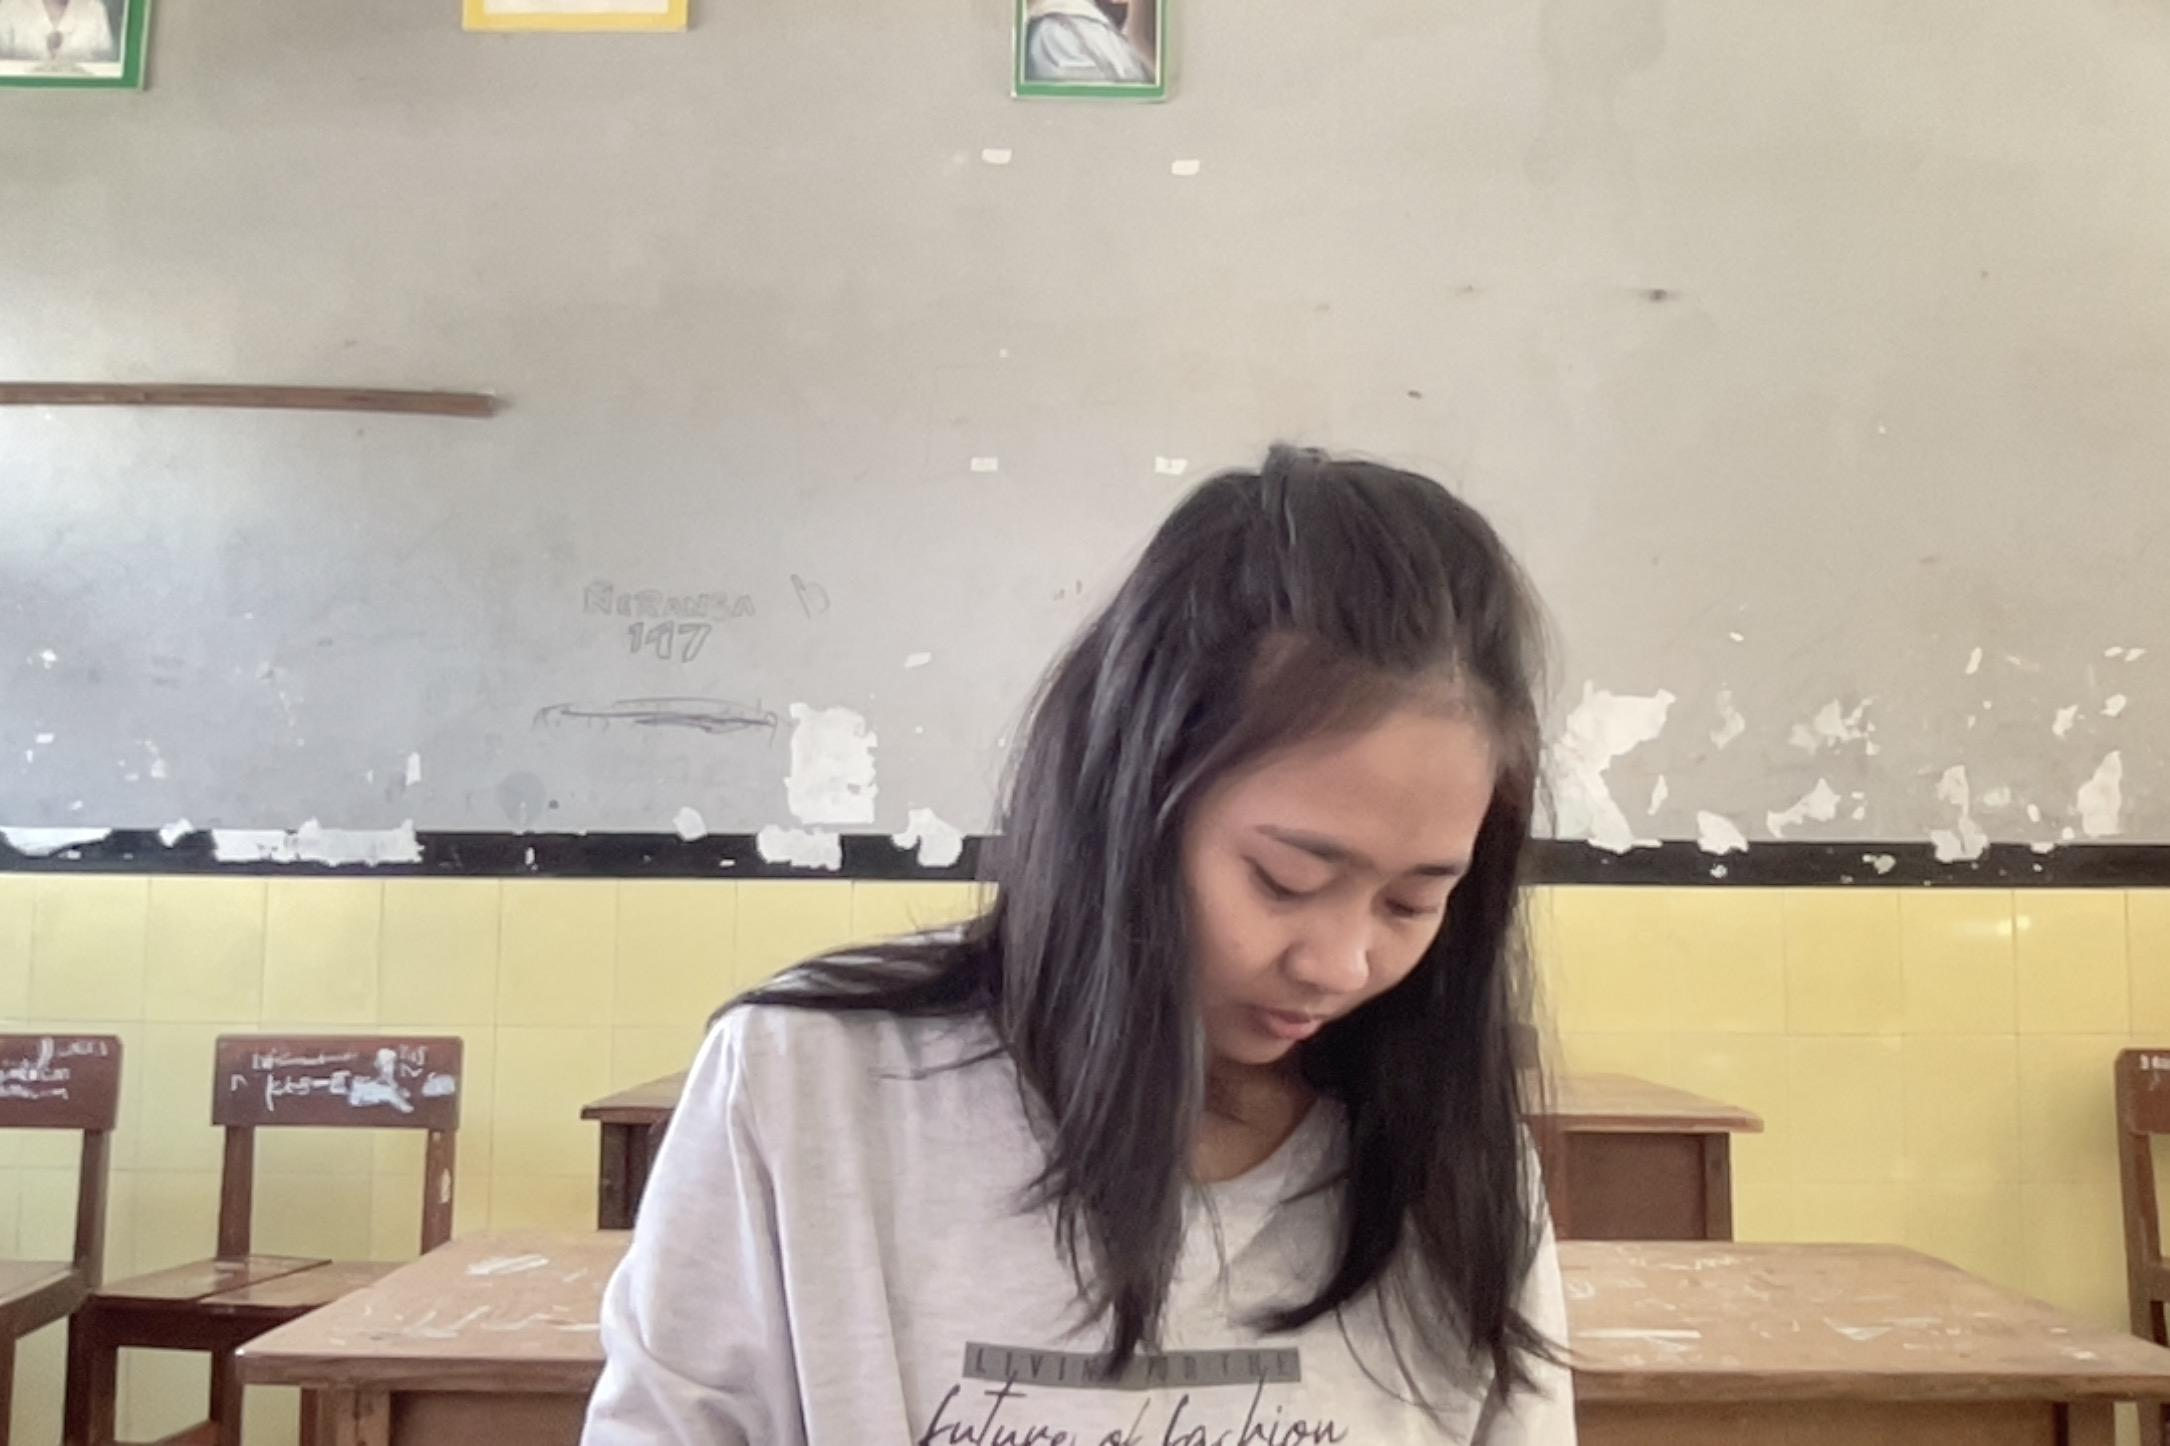cheating: (547, 437, 1594, 1446)
